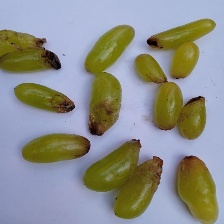grapes: (9, 27, 194, 198)
